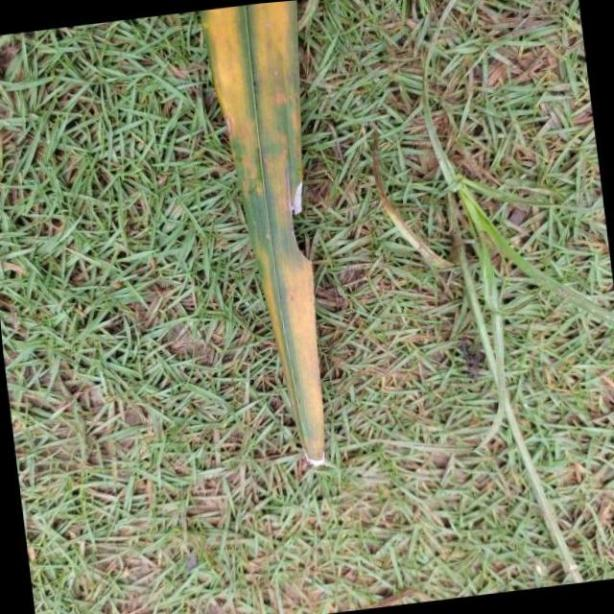Megnesium: (200, 0, 331, 475)
